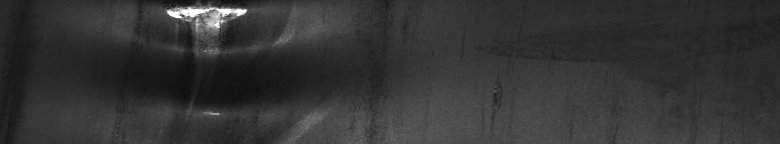ke: (128, 4, 387, 136)
